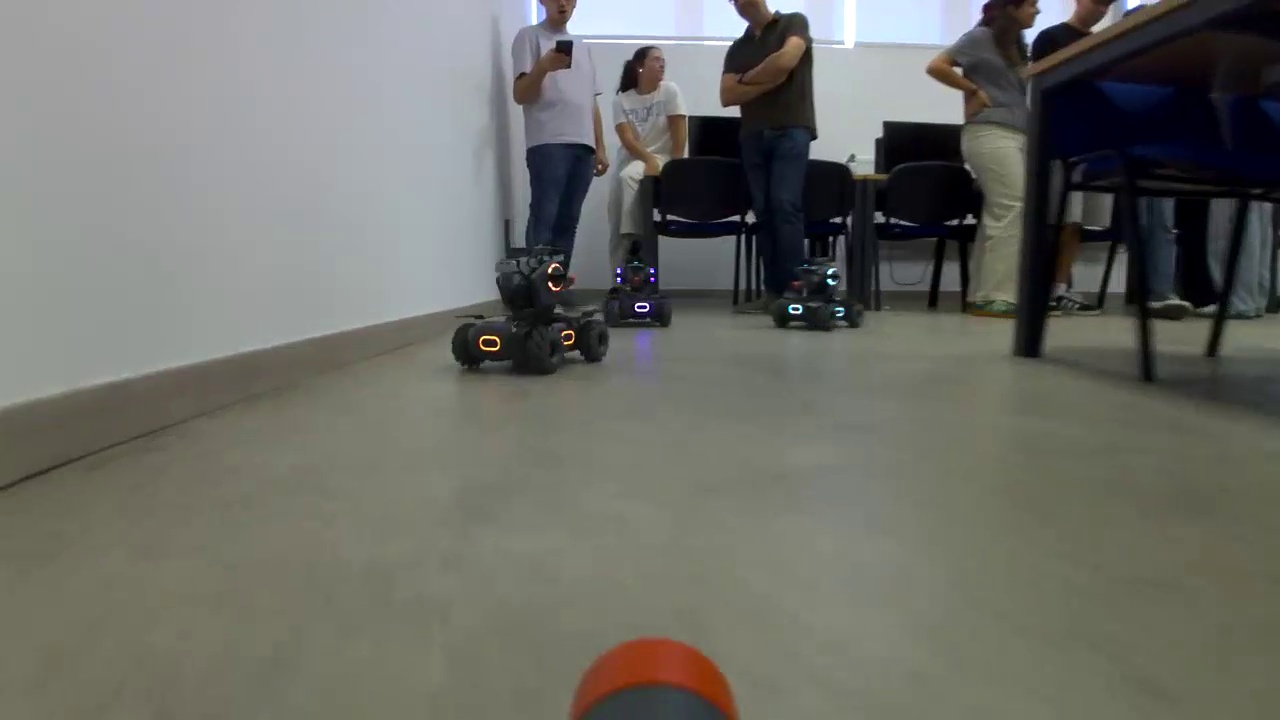robot: (458, 244, 606, 376), (772, 259, 866, 338), (609, 256, 672, 335)
